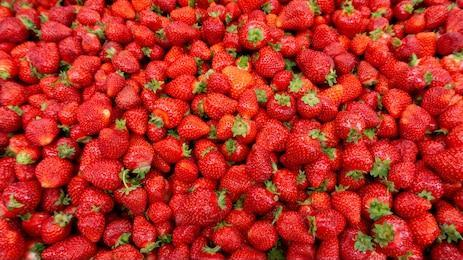Fresa: (365, 211, 415, 258), (80, 153, 125, 194), (274, 208, 317, 249), (283, 128, 322, 171), (328, 187, 365, 232), (294, 46, 336, 85), (35, 152, 75, 190), (341, 137, 374, 182), (391, 186, 432, 222), (272, 1, 317, 32), (74, 209, 108, 246), (3, 180, 39, 214), (128, 214, 160, 251), (162, 71, 200, 102), (174, 112, 213, 142), (39, 212, 73, 245), (31, 41, 62, 77), (121, 105, 153, 138), (382, 87, 415, 119), (265, 91, 299, 122), (58, 65, 97, 92), (294, 88, 325, 121), (110, 49, 143, 78), (202, 13, 229, 46), (236, 87, 262, 121), (37, 18, 75, 41), (355, 58, 382, 90)
